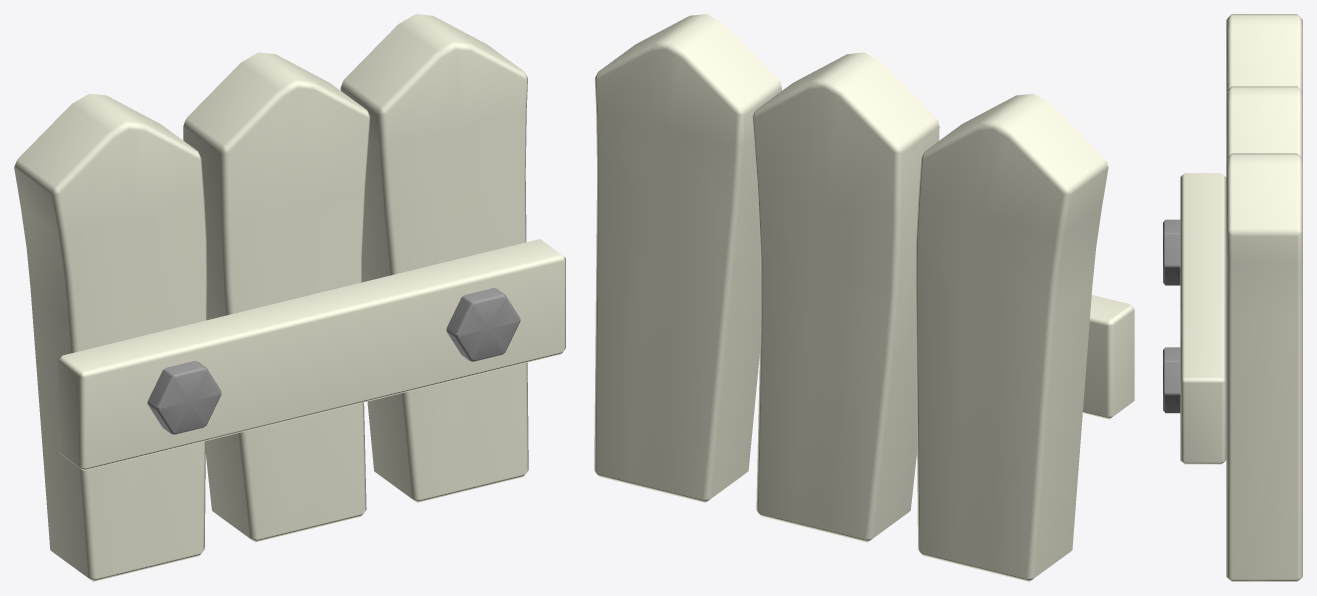
File: Town_1_Fence_2.glb
The picture shows the model from 3 angles, left to right: view 1: azimuth 30°, elevation 25°; view 2: azimuth 150°, elevation 25°; view 3: azimuth 270°, elevation 25°; orthographic projection. The views are drawn at different scales.
Parts seen in each view (by area): view 1: Town_1_Fence_2; view 2: Town_1_Fence_2; view 3: Town_1_Fence_2.
Part boxes in pixels (left/top/right/bottom): Town_1_Fence_2: left=14, top=14, right=565, bottom=581; Town_1_Fence_2: left=594, top=14, right=1134, bottom=581; Town_1_Fence_2: left=1163, top=14, right=1302, bottom=581.
Bounding box in the file's own units: 1 × 0.8893 × 0.2842.
Materials: 1 (1 with a texture image).
